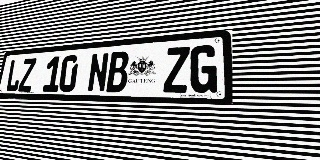0: (58, 55, 79, 92)
1: (43, 56, 63, 92)
B: (106, 51, 130, 92)
G: (189, 44, 218, 93)
L: (5, 59, 23, 92)
N: (87, 52, 109, 92)
Z: (163, 46, 190, 93), (18, 58, 37, 92)
